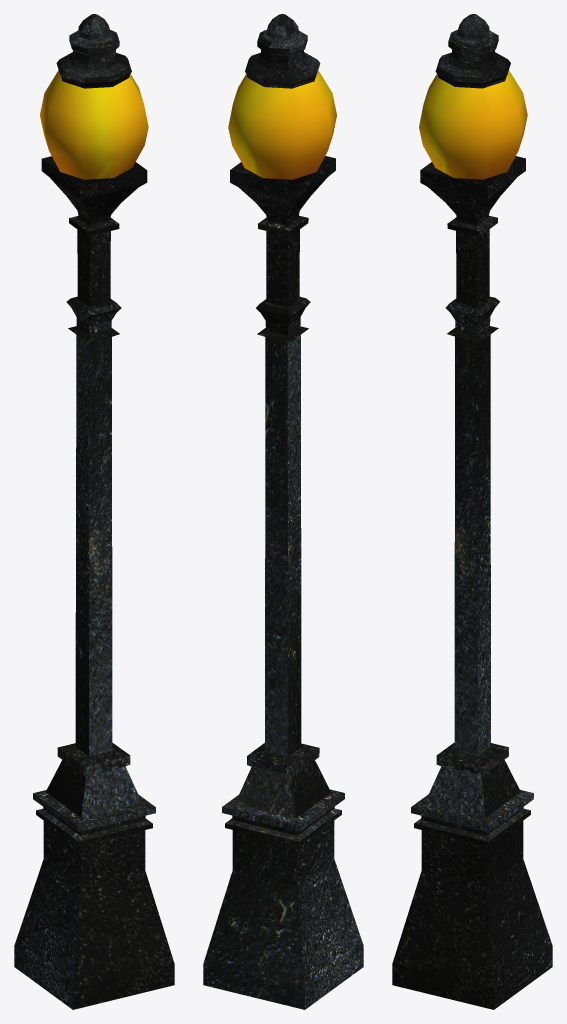
Rendered from textured lamp 7.fbx.
3 renders of one model, left to right at view 1: azimuth 30°, elevation 25°; view 2: azimuth 150°, elevation 25°; view 3: azimuth 330°, elevation 25°, orthographic.
Visible parts, largest first — view 1: Plane, Plane.011; view 2: Plane, Plane.011; view 3: Plane, Plane.011.
Part boxes in pixels (x1,y1,x2,y2): Plane: (14, 14, 174, 1009); Plane.011: (40, 70, 148, 179); Plane: (203, 14, 363, 1009); Plane.011: (228, 70, 336, 179); Plane: (392, 14, 552, 1009); Plane.011: (419, 70, 527, 179).
Bounding box in the file's own units: 49.04 × 443 × 49.04.
2 materials, 2 textured.
